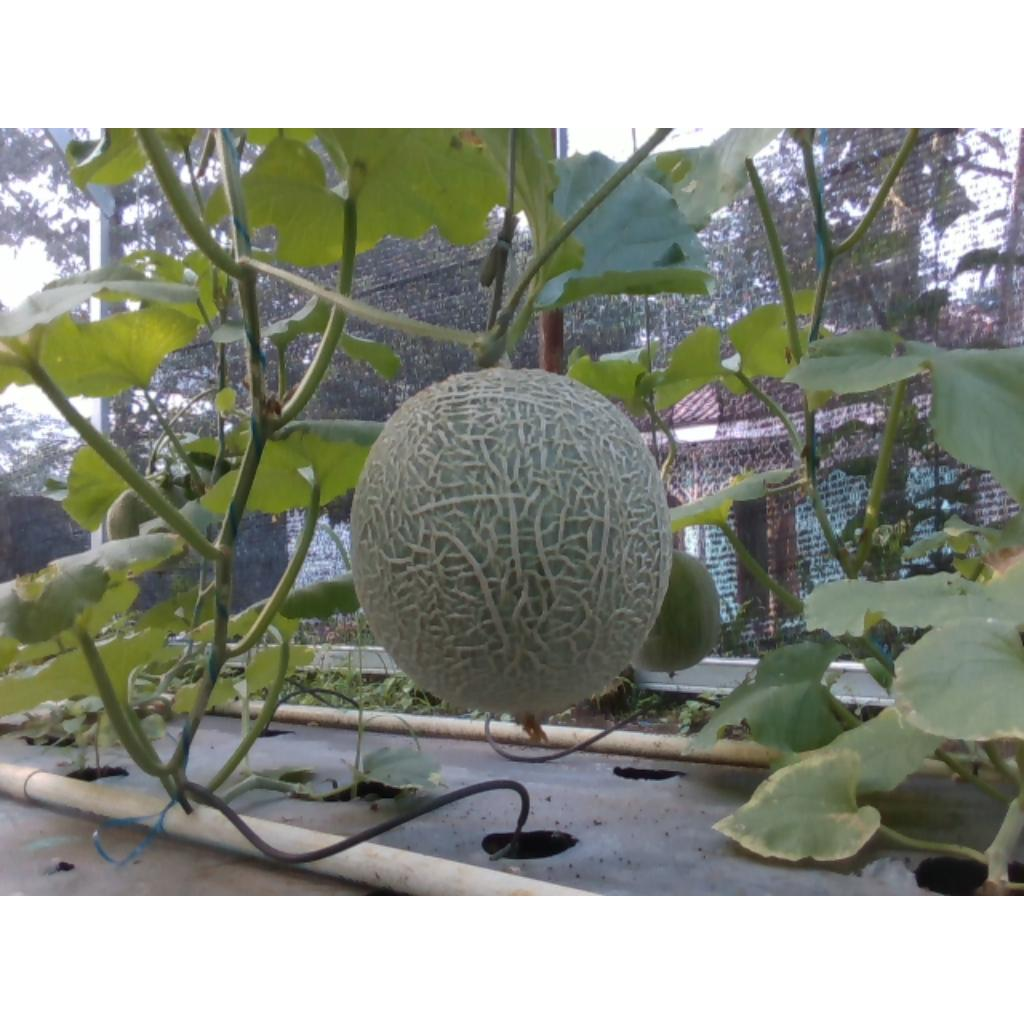melon: (352, 368, 674, 719)
